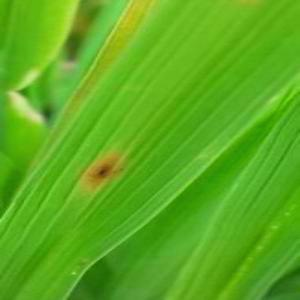0 BrownSpot: (82, 151, 124, 187)
